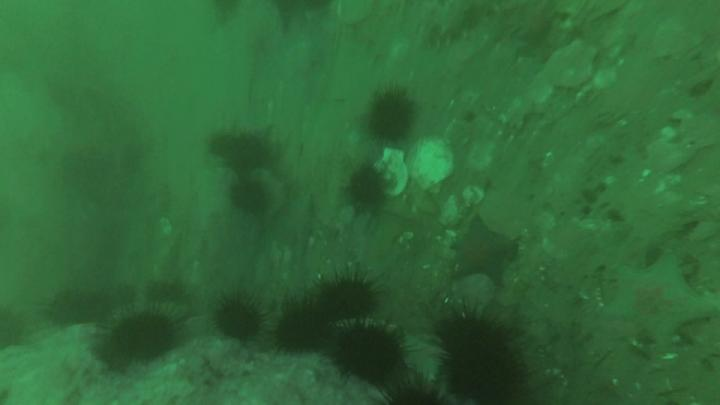echinus: (443, 344, 523, 402), (337, 326, 401, 381), (116, 314, 174, 359), (318, 278, 376, 319), (368, 92, 415, 141), (439, 314, 502, 350), (211, 135, 271, 171), (280, 313, 322, 355), (216, 301, 260, 339), (52, 289, 89, 326), (352, 165, 386, 205), (234, 183, 265, 212)
holothurian: (397, 5, 468, 50)
scallop: (411, 136, 459, 191), (381, 149, 412, 200)
starfish: (602, 256, 720, 340), (453, 217, 520, 287), (280, 197, 325, 240)
